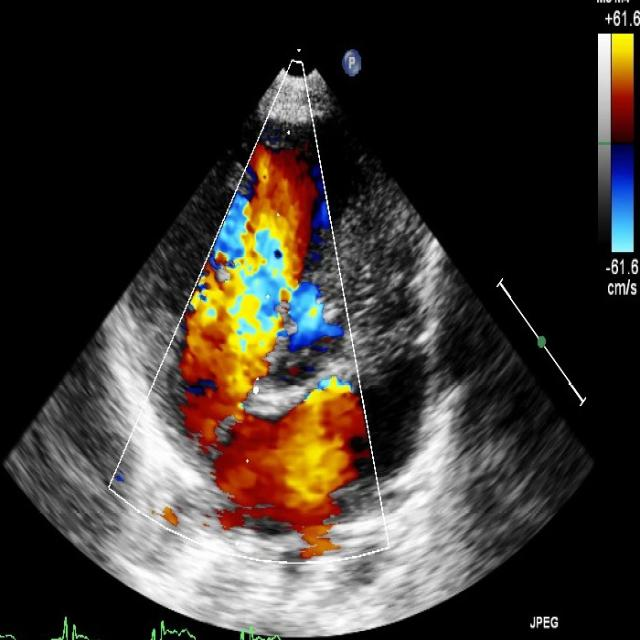ASDType2: (195, 360, 258, 472)
VSDType2: (227, 227, 344, 350)
